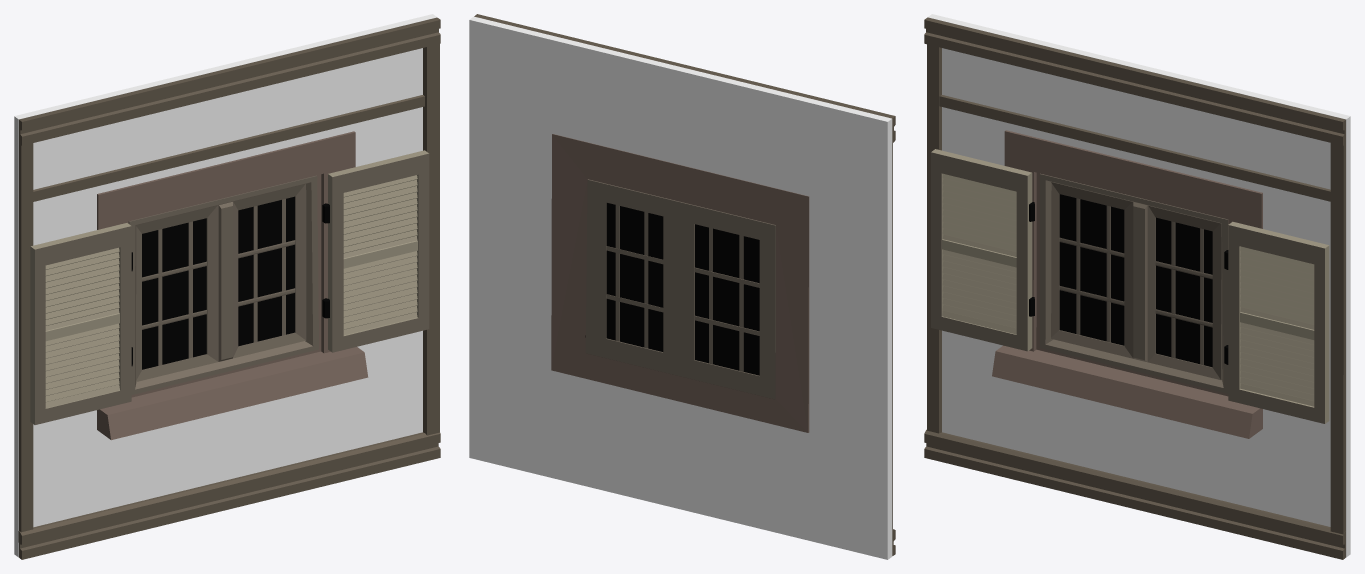
Rendered from WINDOW_06_1.fbx.
3 renders of one model, left to right at view 1: azimuth 30°, elevation 25°; view 2: azimuth 150°, elevation 25°; view 3: azimuth 330°, elevation 25°, orthographic.
Visible parts, largest first — view 1: WINDOW_06_1; view 2: WINDOW_06_1; view 3: WINDOW_06_1.
Boxes of the visible parts, bbox=[...] form: WINDOW_06_1: bbox=[14, 14, 440, 559]; WINDOW_06_1: bbox=[469, 14, 895, 559]; WINDOW_06_1: bbox=[924, 14, 1350, 559].
Bounding box in the file's own units: 300 × 300 × 24.38.
